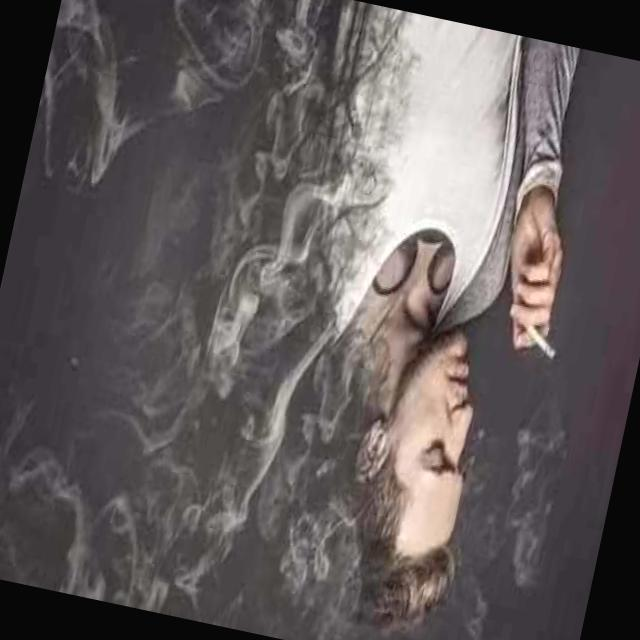cigarette: (522, 322, 560, 360)
